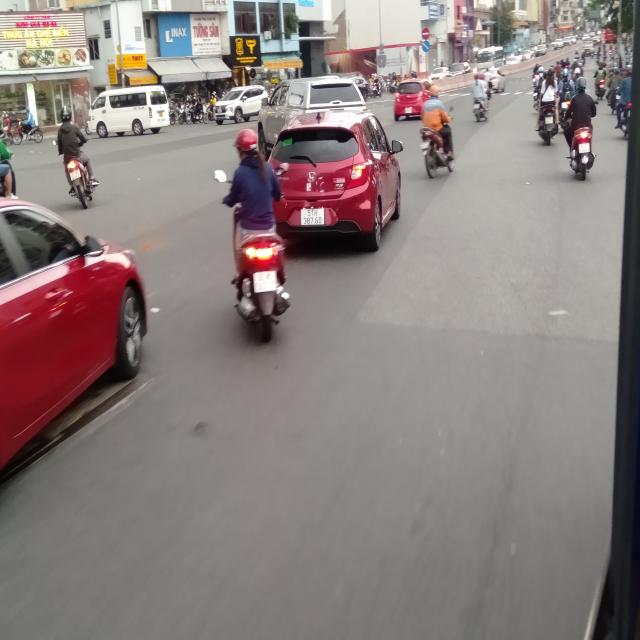bien_trang: (300, 208, 324, 226)
